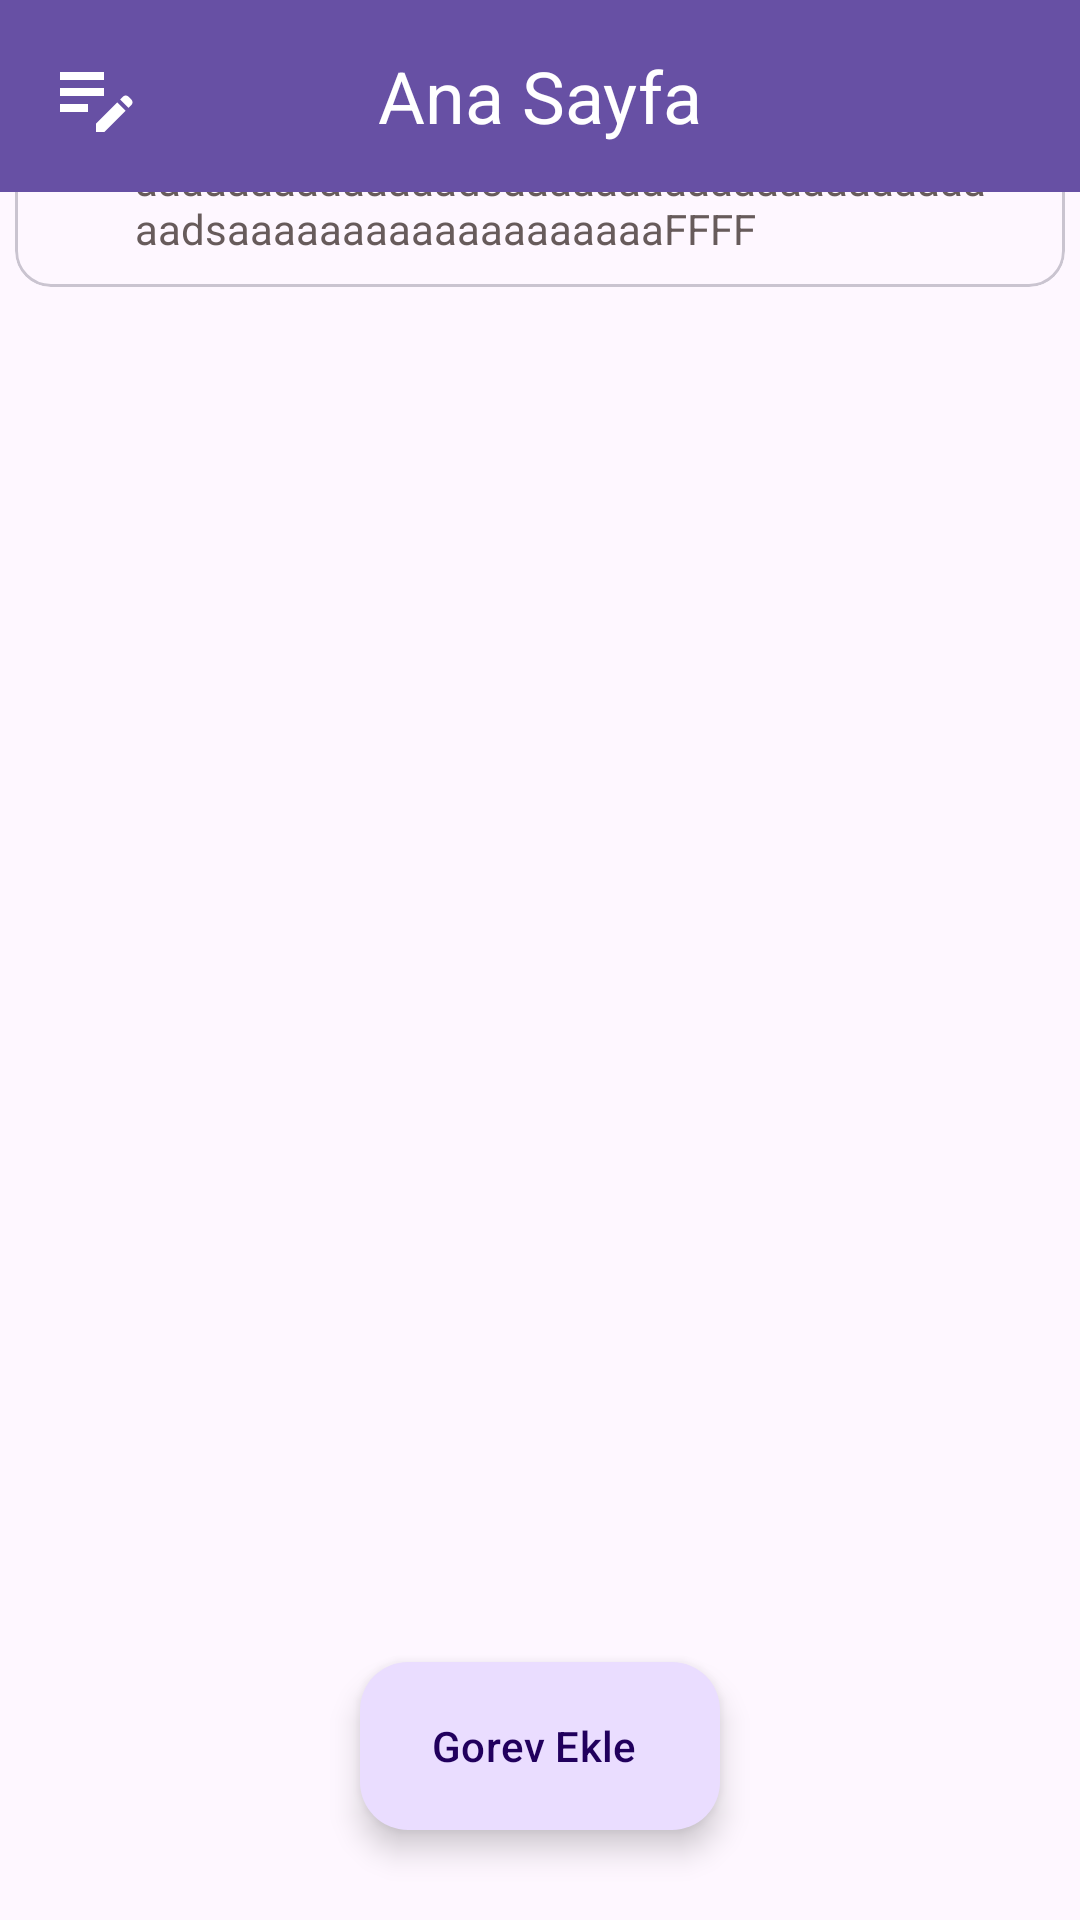

Where icons sit on this 1080px×1920px app screen, as (x1, y1, x2, y2):
edit note: (60, 72, 133, 132)
